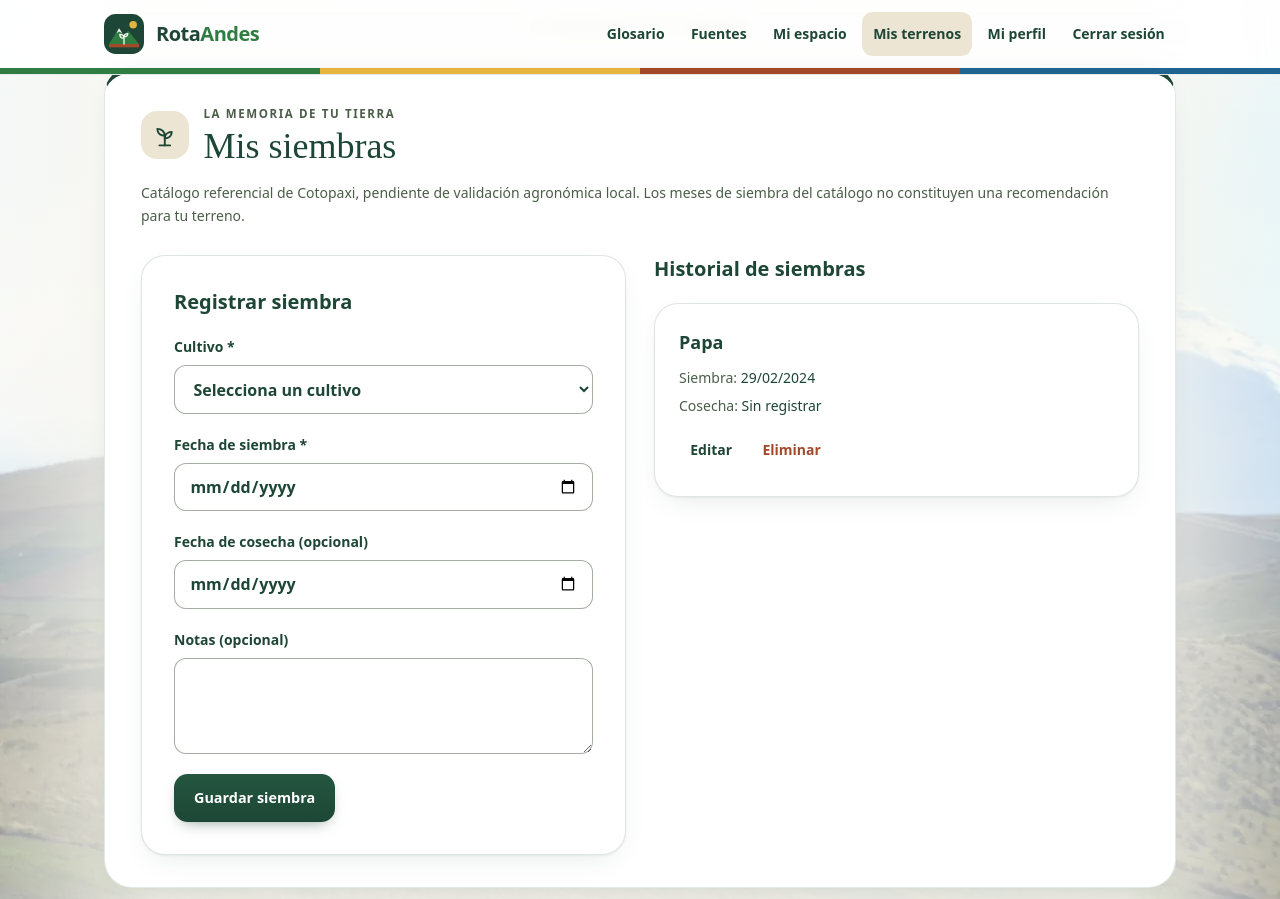
Interfaz de terrenos y siembras › edita y elimina una siembra existente
(page scrolled)
Click the button with aria-label "Editar siembra de Papa".
click(711, 450)  # box [679,428,743,472]
(page scrolled)
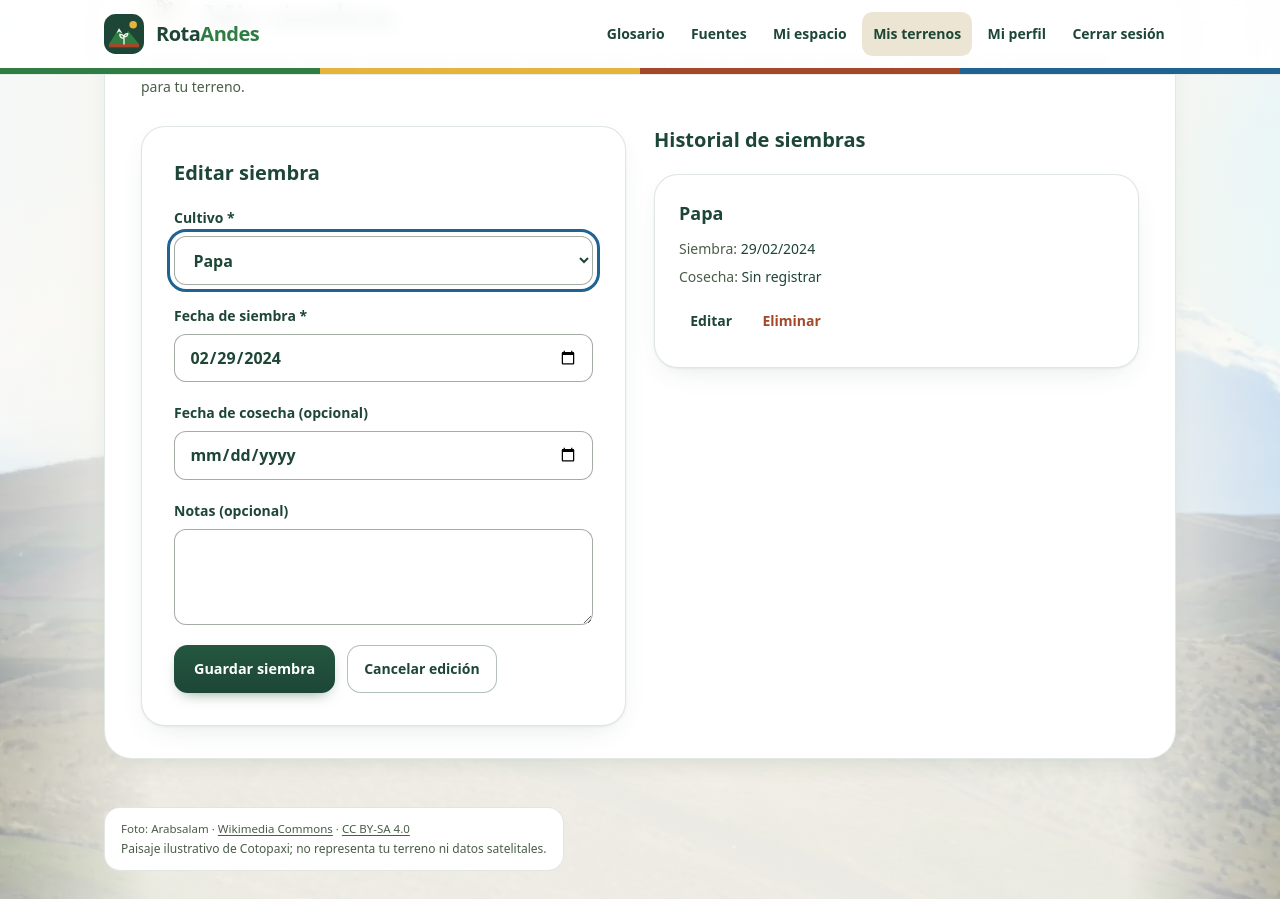
Type "Actualizada" into the text box labelled "Notas (opcional)".
click(384, 577); type("Actualizada")  # box [174,529,593,625]
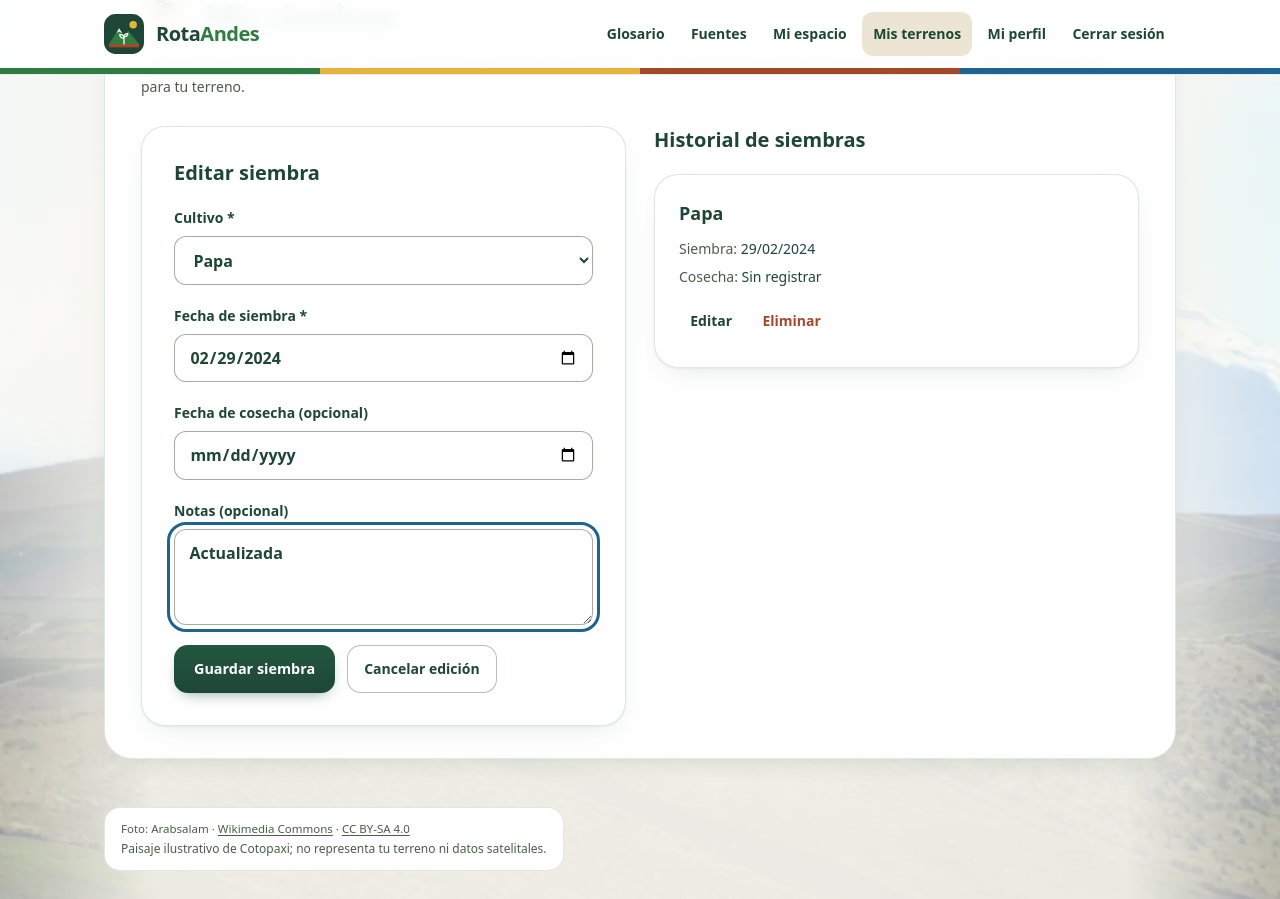
Click the button "Guardar siembra".
click(255, 669)  # box [174,645,335,693]
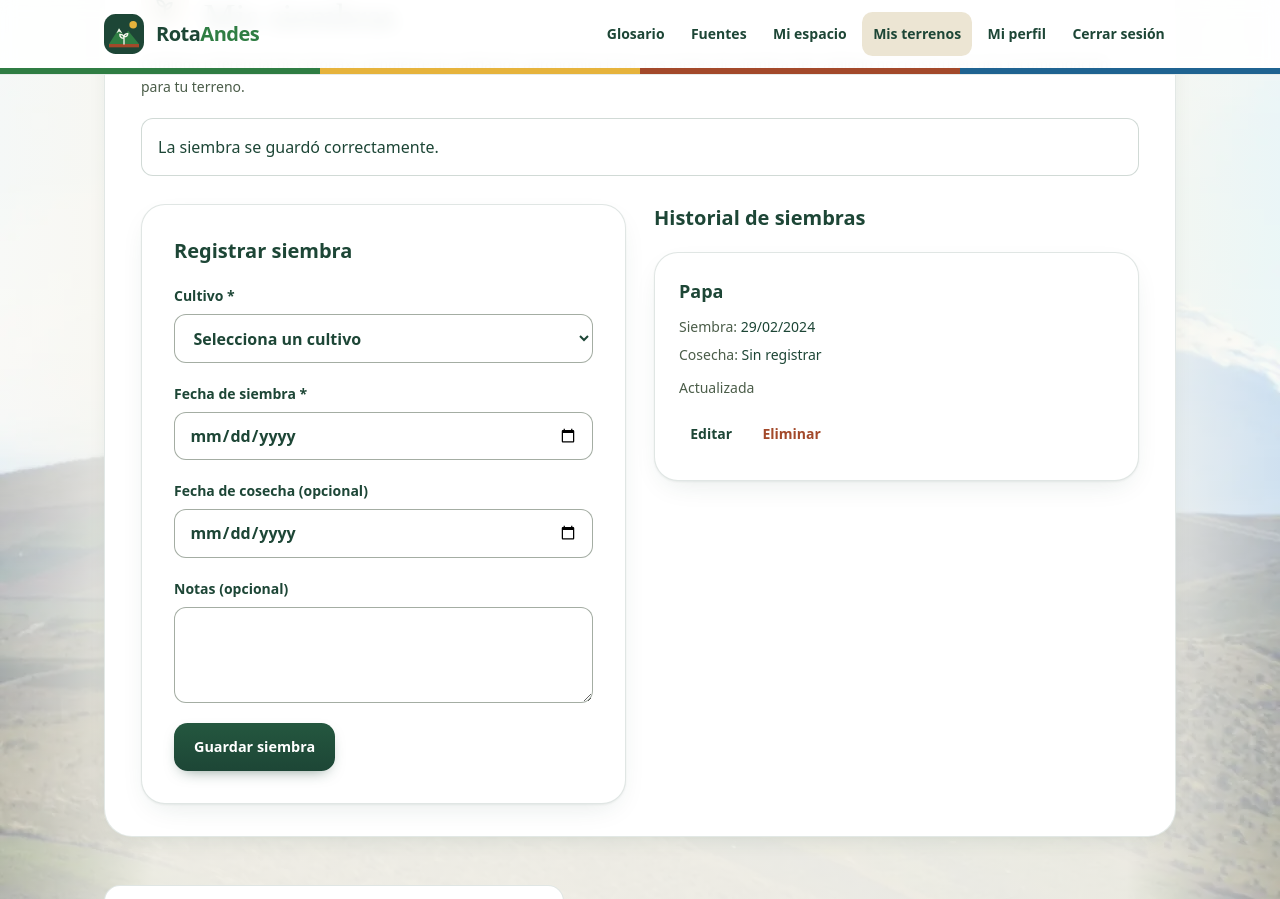
Expected: the text "Actualizada" is shown, [679,378,754,398]
Click the button with aria-label "Eliminar siembra de Papa".
click(792, 434)  # box [751,412,832,456]
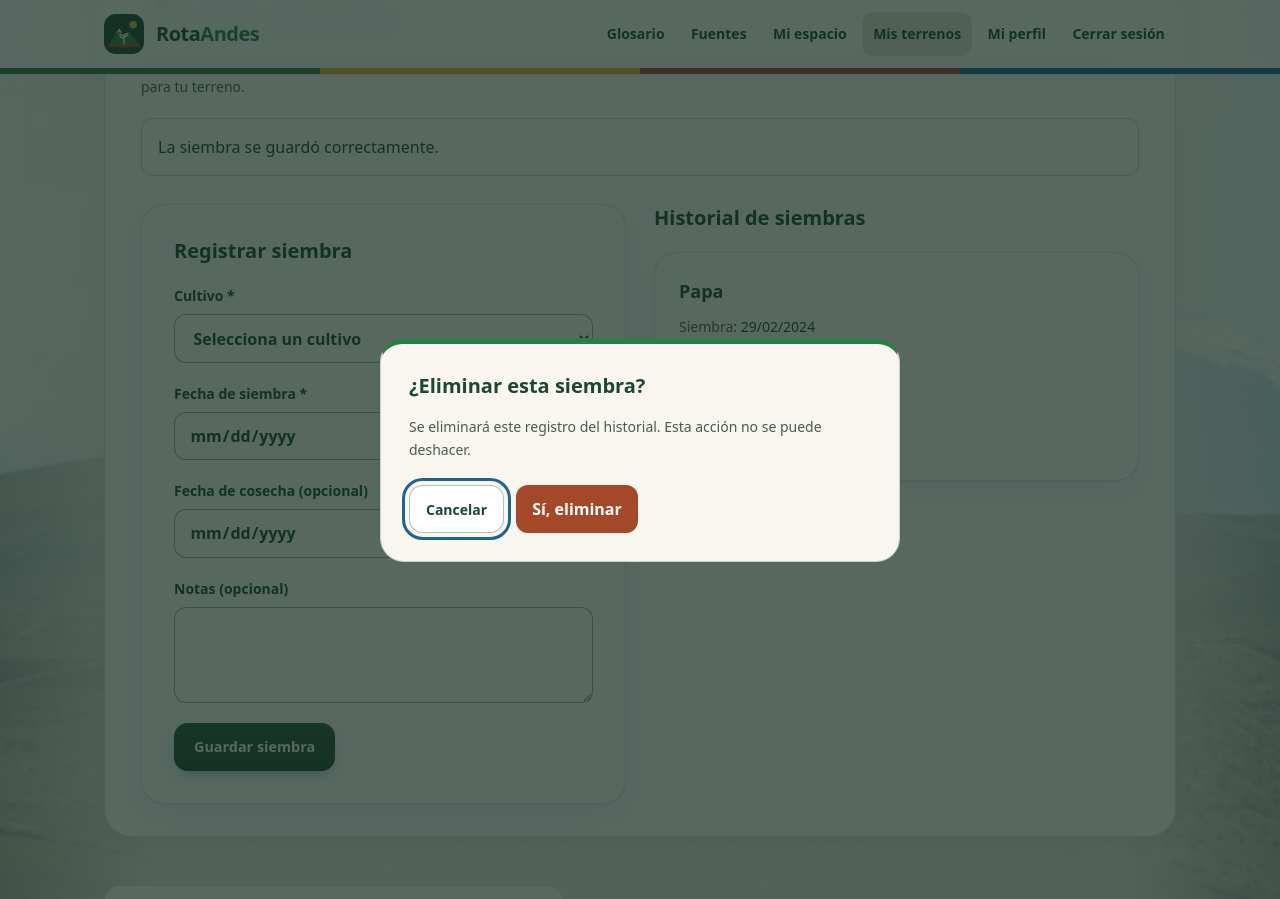
Click the button "Sí, eliminar".
click(577, 509)  # box [516,485,638,533]
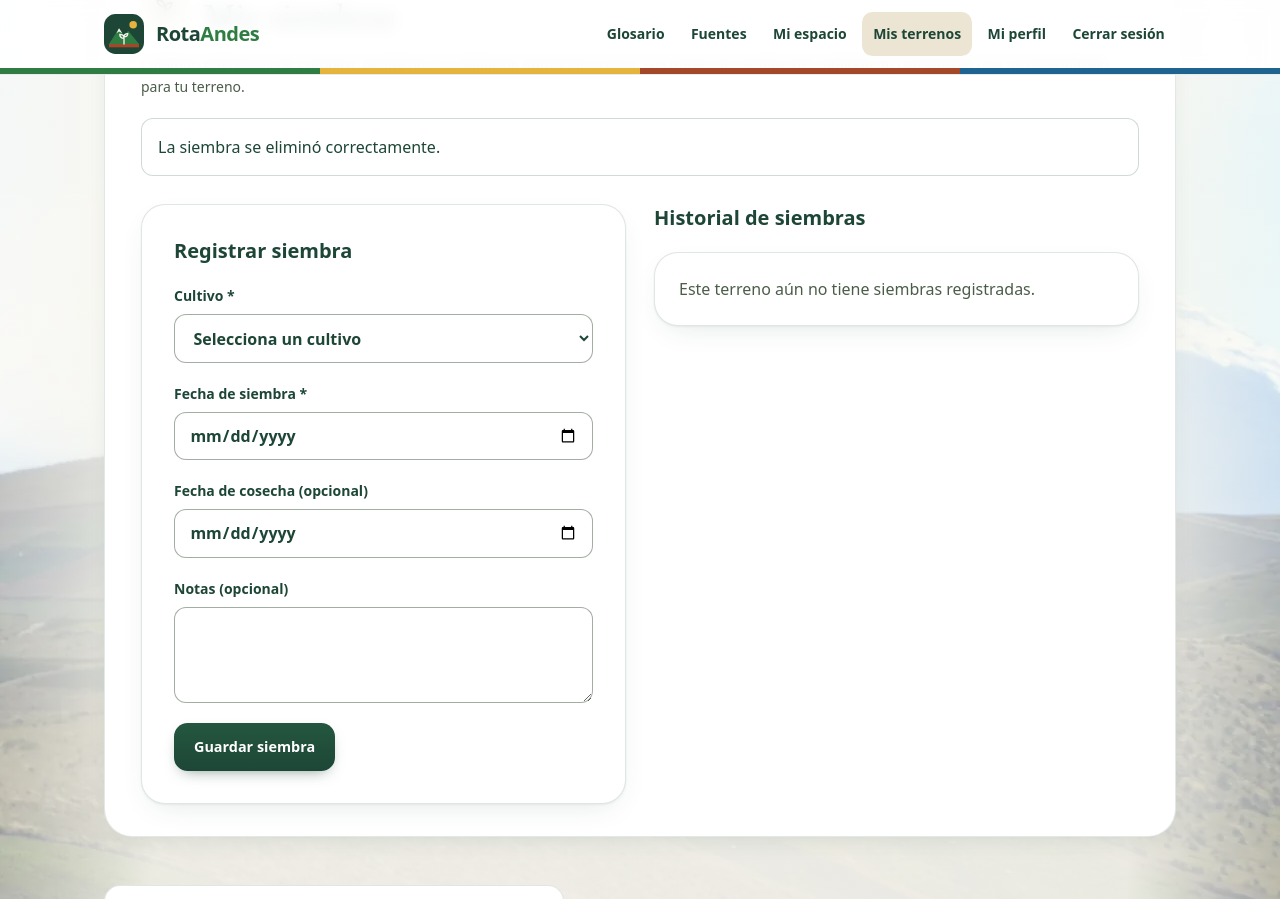
Expected: the text "La siembra se eliminó correctamente." is shown, [141,118,1139,176]
